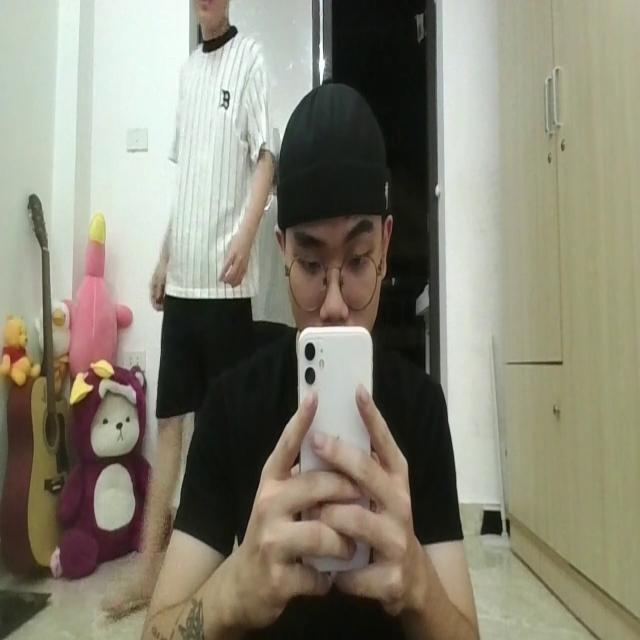extra_person: (147, 0, 279, 525)
phone: (298, 313, 376, 578)
student: (149, 82, 473, 640)
